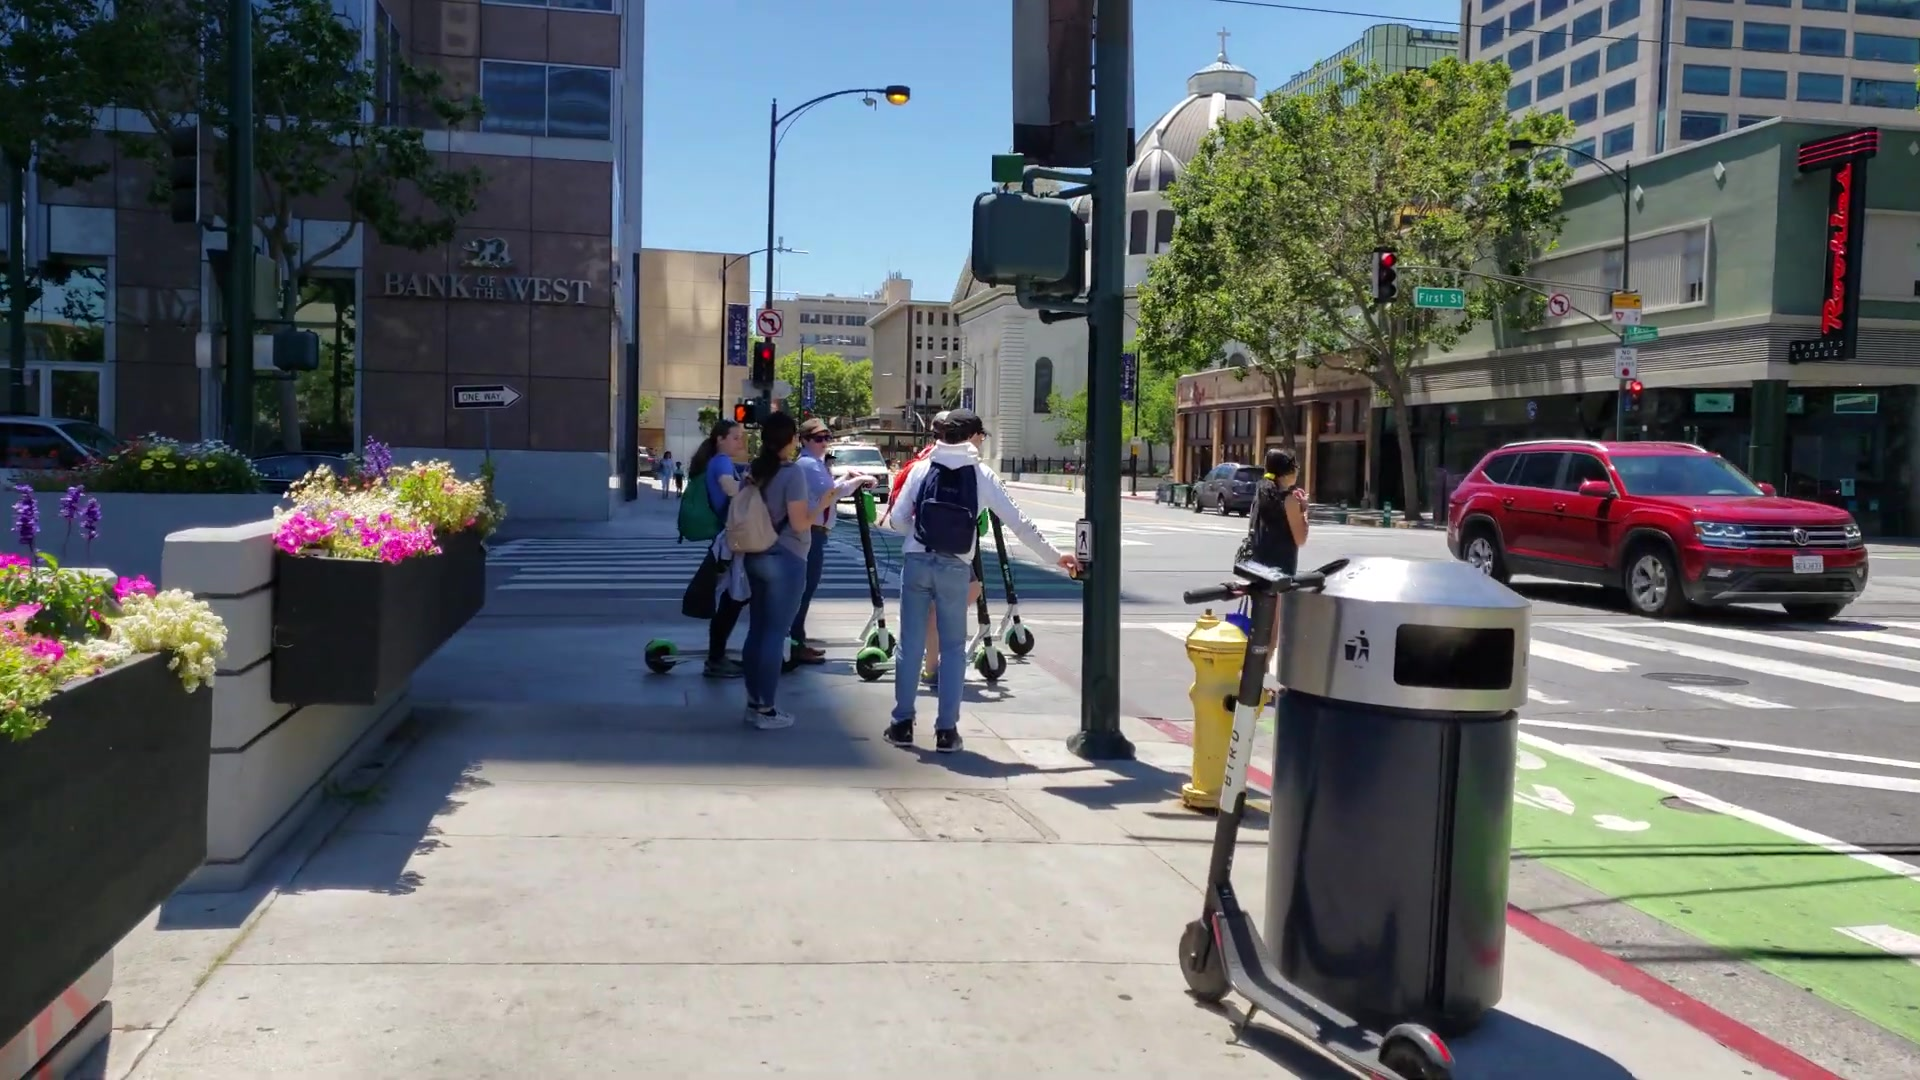vehicle_toward: (1448, 440, 1867, 626)
